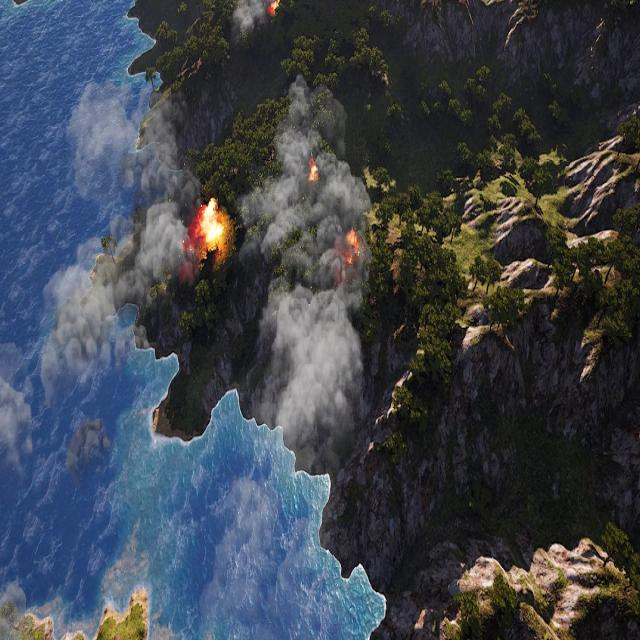fire: (199, 198, 227, 252), (340, 230, 363, 264), (308, 160, 319, 184), (269, 0, 279, 17)
smoke: (4, 62, 204, 493), (220, 77, 378, 613), (227, 0, 268, 42)
